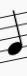note: (5, 8, 24, 65)
